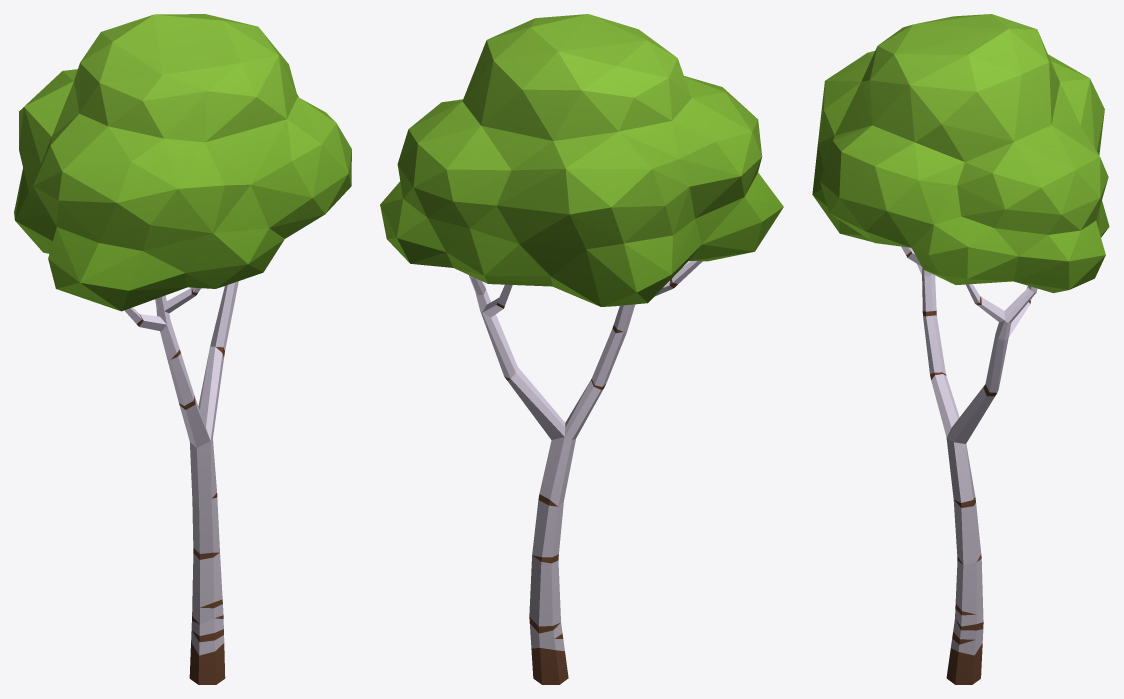
The model's file is Tree_Birch_Green_04.fbx.
The picture shows the model from 3 angles, left to right: view 1: azimuth 30°, elevation 25°; view 2: azimuth 150°, elevation 25°; view 3: azimuth 270°, elevation 25°; orthographic projection. The views are drawn at different scales.
Visible parts, largest first — view 1: Tree_Birch_Green_04; view 2: Tree_Birch_Green_04; view 3: Tree_Birch_Green_04.
Boxes of the visible parts, left/top/right/bottom form: Tree_Birch_Green_04: left=14, top=14, right=351, bottom=684; Tree_Birch_Green_04: left=380, top=14, right=783, bottom=684; Tree_Birch_Green_04: left=812, top=14, right=1109, bottom=684.
Bounding box in the file's own units: 275 × 536 × 227.
